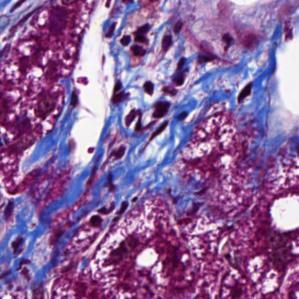inflammation: (109, 74, 190, 141), (102, 18, 187, 61), (84, 191, 143, 232)
